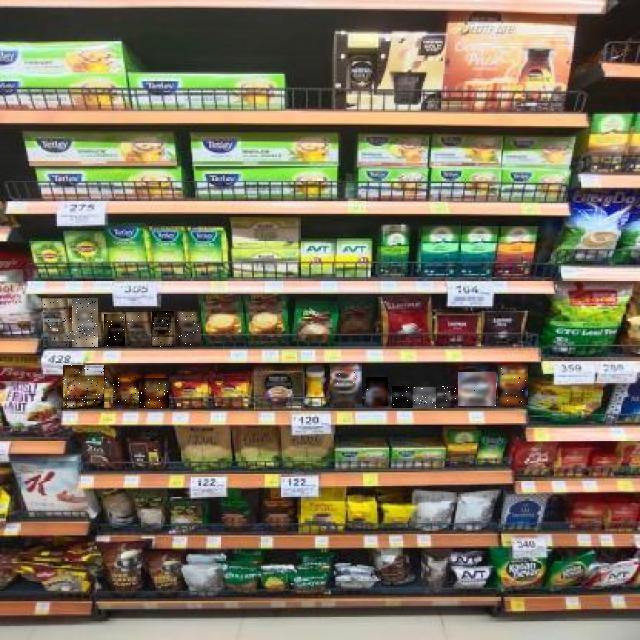Coffee: (64, 365, 108, 409), (330, 364, 362, 408), (44, 298, 72, 347), (458, 372, 496, 406), (73, 298, 99, 347), (498, 366, 528, 405), (139, 378, 169, 408), (175, 312, 200, 346), (152, 311, 174, 347), (113, 378, 139, 408), (127, 312, 150, 345), (104, 314, 125, 346), (366, 377, 388, 406), (413, 387, 436, 408), (393, 386, 413, 408), (438, 386, 458, 408)
